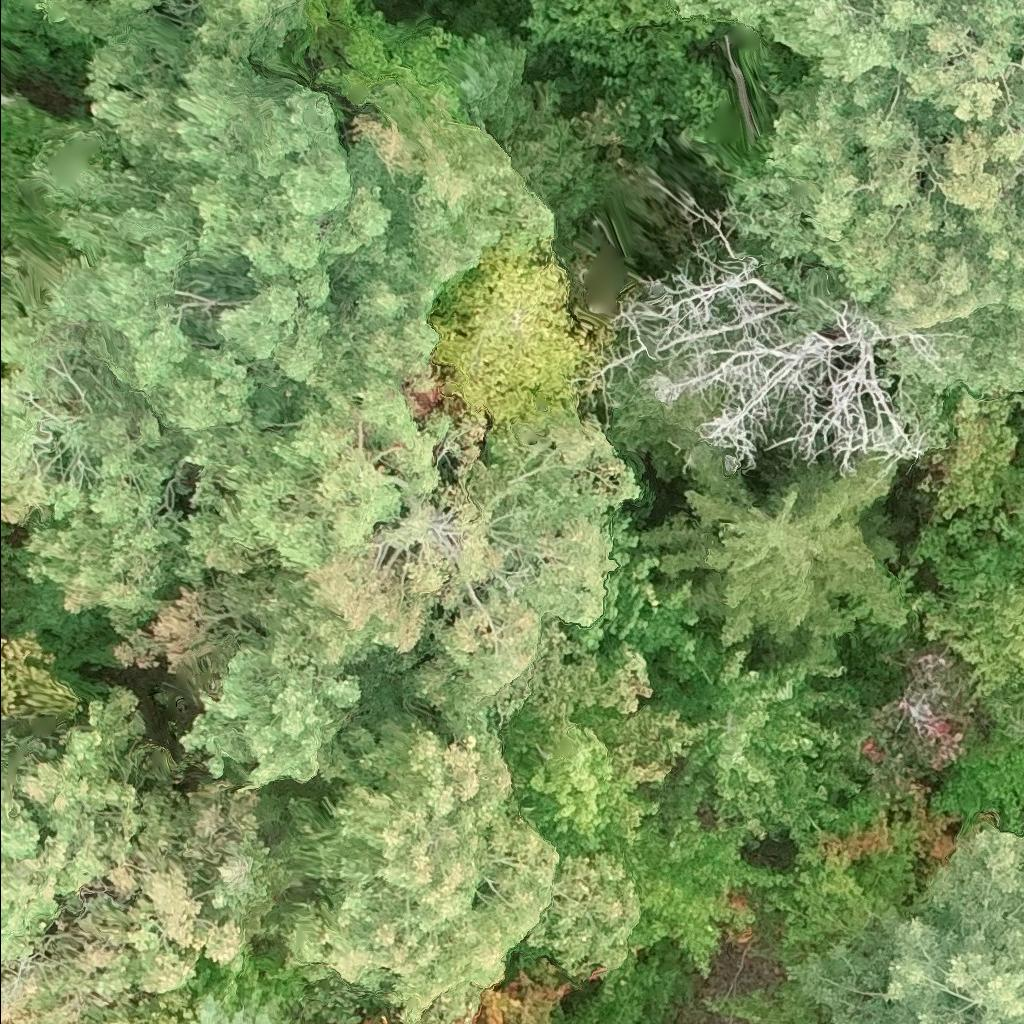crown: (0, 31, 550, 635), (706, 639, 1023, 1023), (115, 378, 504, 677), (276, 713, 642, 1023), (588, 231, 934, 474), (735, 50, 1023, 327), (405, 416, 643, 739), (643, 445, 907, 671), (495, 615, 710, 873), (793, 825, 1023, 1023), (638, 647, 860, 847), (672, 0, 1023, 121), (433, 238, 629, 435), (181, 635, 363, 794), (563, 518, 725, 681), (624, 815, 776, 977), (566, 26, 732, 145), (883, 305, 1023, 446), (918, 557, 1023, 731), (522, 0, 721, 45), (475, 967, 569, 1023), (985, 71, 1023, 132), (990, 151, 1023, 218), (368, 1018, 388, 1023)
